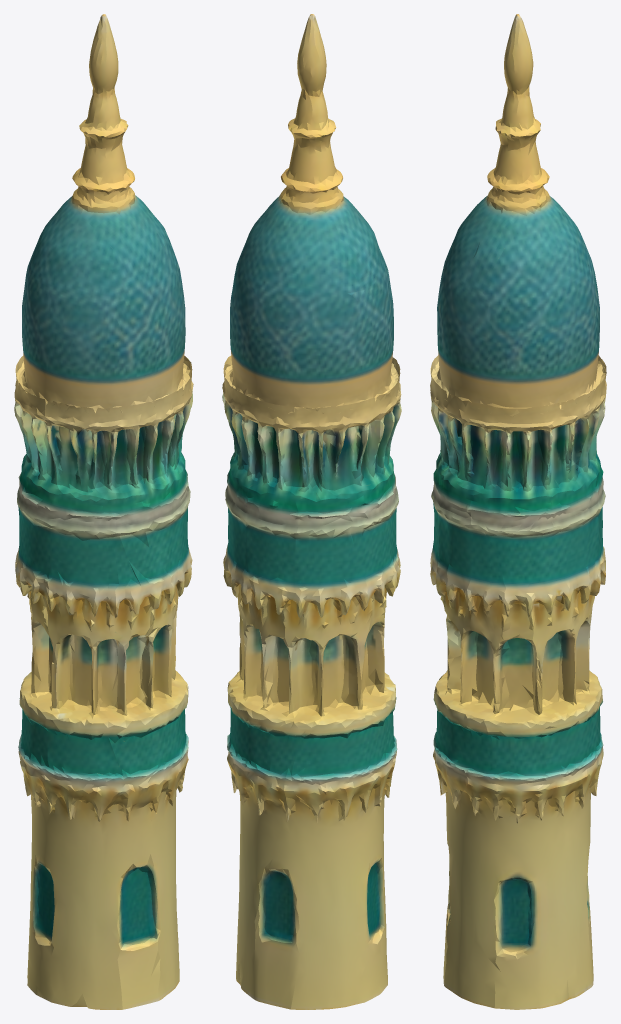
Rendered from islamic_minaret.glb.
The picture shows the model from 3 angles, left to right: view 1: azimuth 30°, elevation 25°; view 2: azimuth 150°, elevation 25°; view 3: azimuth 270°, elevation 25°; orthographic projection.
Visible parts, largest first — view 1: islamic_minaret; view 2: islamic_minaret; view 3: islamic_minaret.
Boxes of the visible parts, x1,y1,x2,y2 form: islamic_minaret: [14, 14, 193, 1009]; islamic_minaret: [222, 14, 401, 1009]; islamic_minaret: [430, 14, 606, 1009].
Bounding box in the file's own units: 0.3208 × 1.9 × 0.3163.
1 material, 1 textured.
